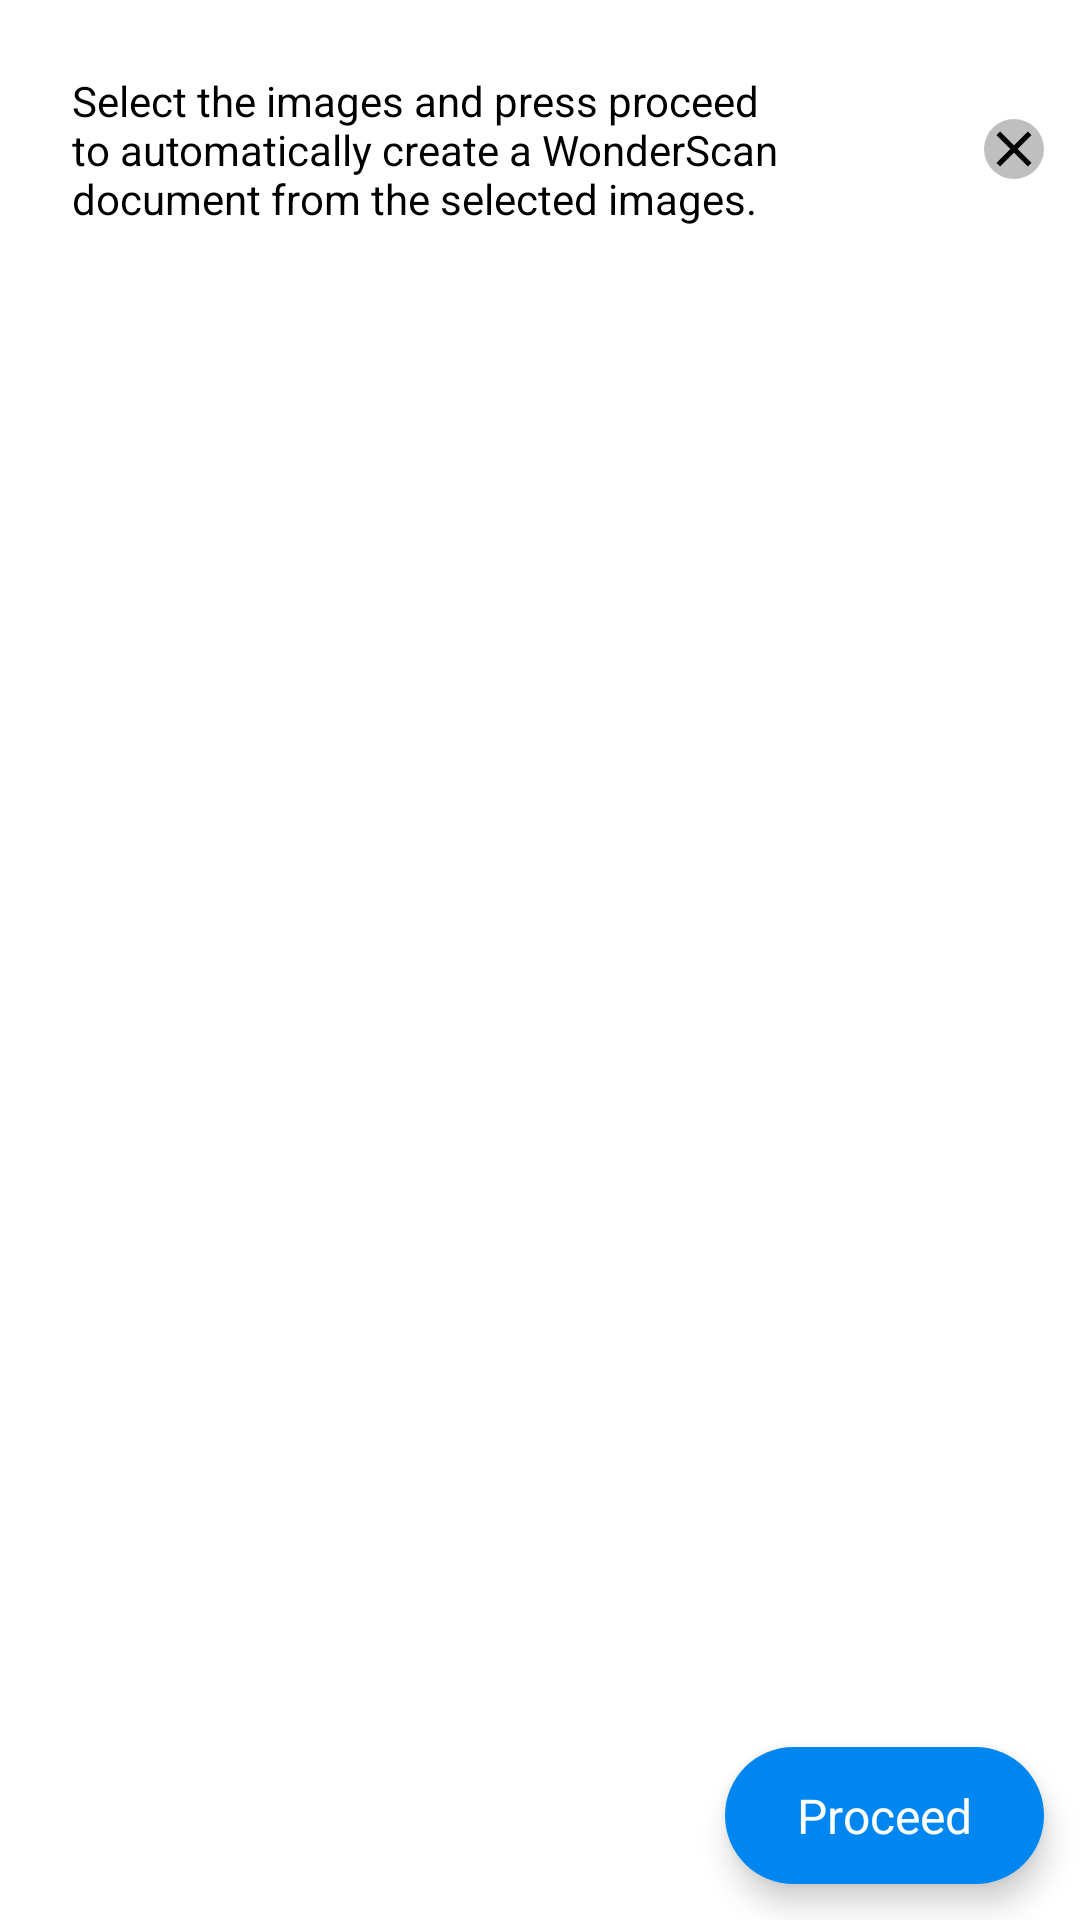

Screen size 1080px×1920px. Icon name, then its box in pixels as (x1, y1, x2, y2):
close circle: (984, 119, 1044, 179)
